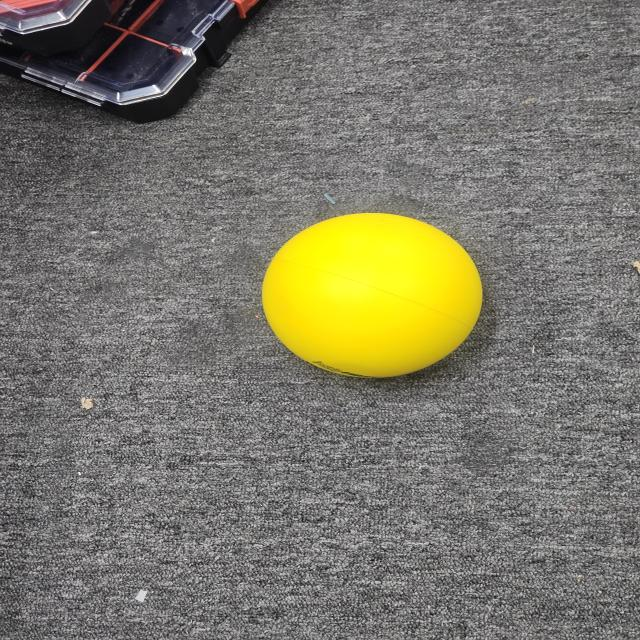Fuel: (256, 210, 489, 386)
